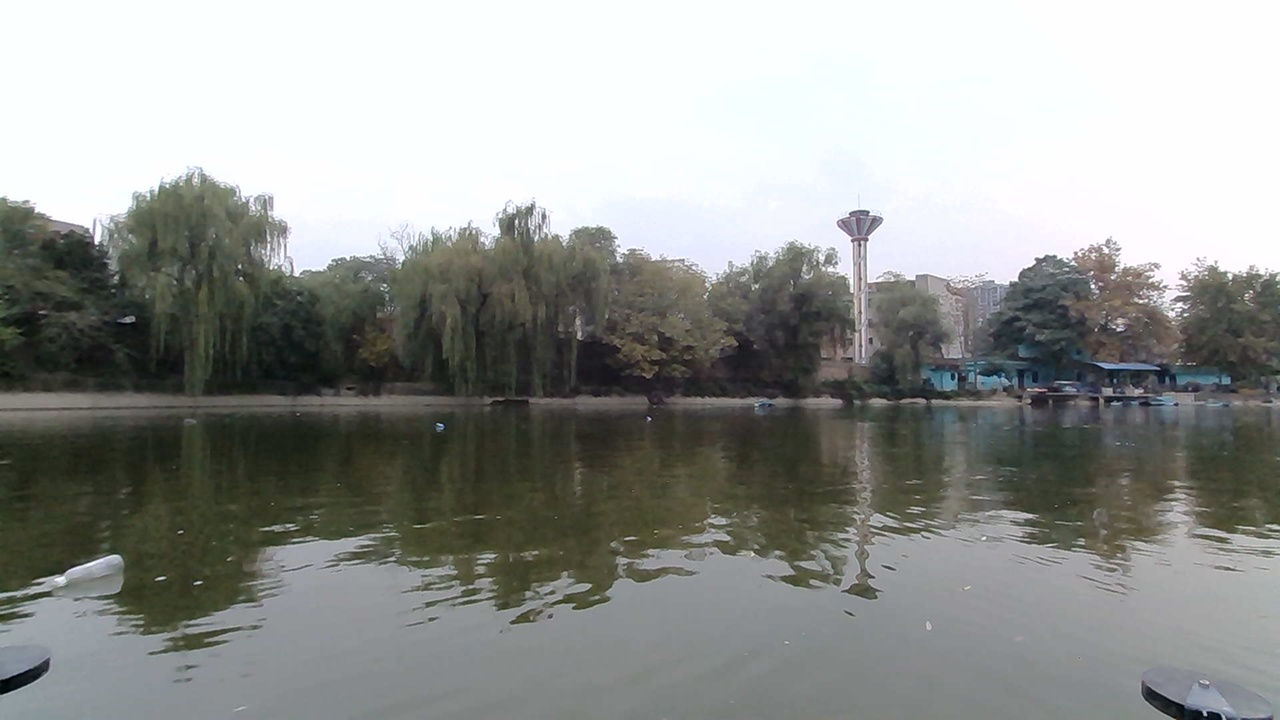bottle: (40, 536, 142, 610), (419, 413, 450, 431)
